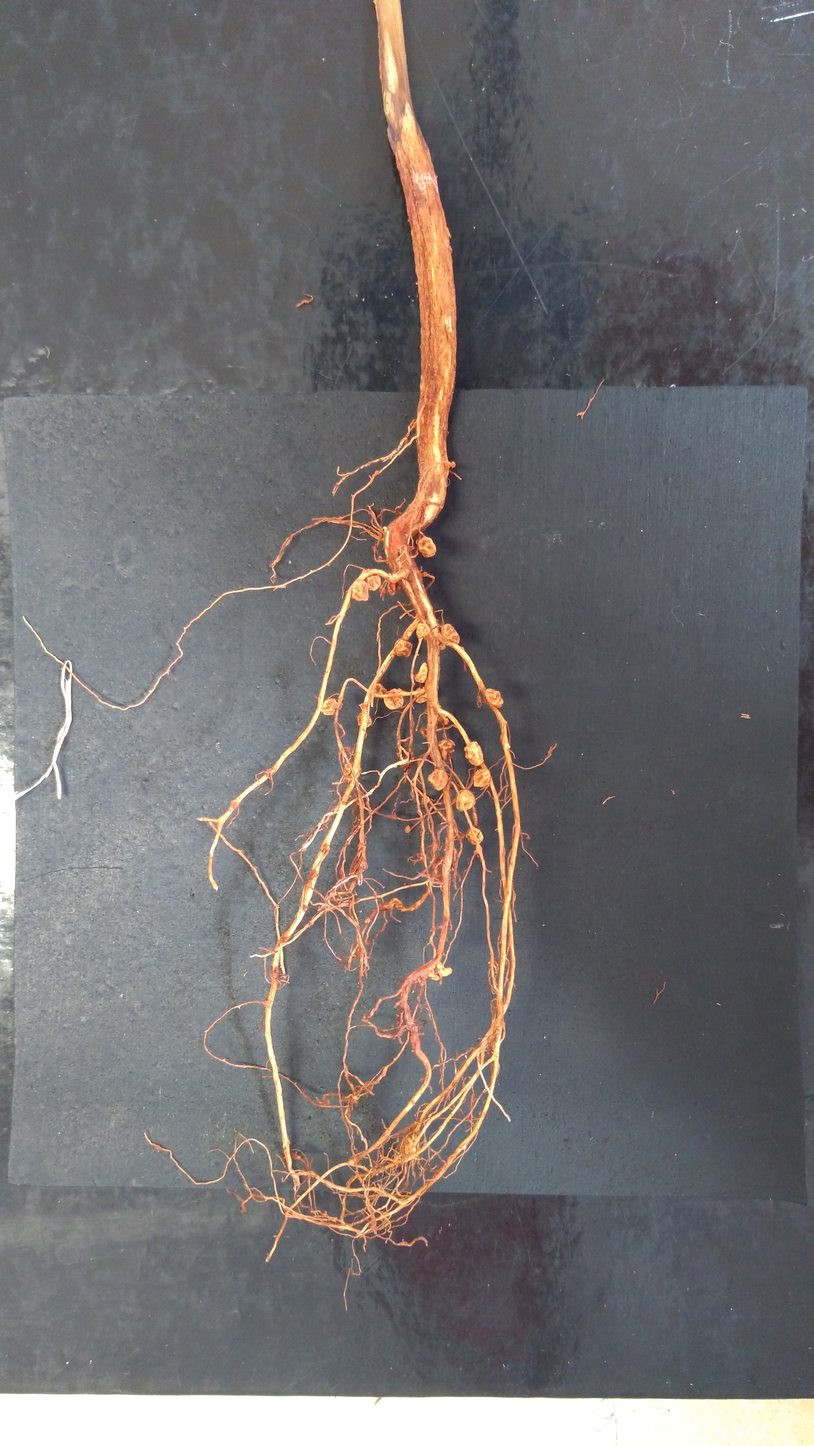nodule: (463, 741, 484, 766), (428, 961, 453, 981), (383, 688, 404, 710), (427, 769, 449, 790), (455, 789, 476, 811), (417, 535, 436, 558), (441, 623, 460, 644), (351, 580, 369, 602), (485, 688, 504, 708), (437, 739, 455, 760), (357, 703, 372, 727), (395, 639, 413, 657), (473, 769, 491, 787), (465, 826, 483, 844), (414, 662, 428, 683), (321, 698, 338, 715), (365, 574, 381, 591), (387, 579, 402, 596), (416, 623, 431, 638), (414, 686, 427, 703), (405, 1136, 417, 1154), (374, 683, 387, 699), (474, 844, 483, 860), (437, 714, 449, 725), (343, 762, 353, 775), (419, 727, 428, 738), (342, 775, 353, 783), (421, 796, 430, 805), (379, 585, 387, 594), (404, 824, 410, 834), (439, 643, 445, 650), (451, 461, 456, 468), (377, 556, 382, 561)
